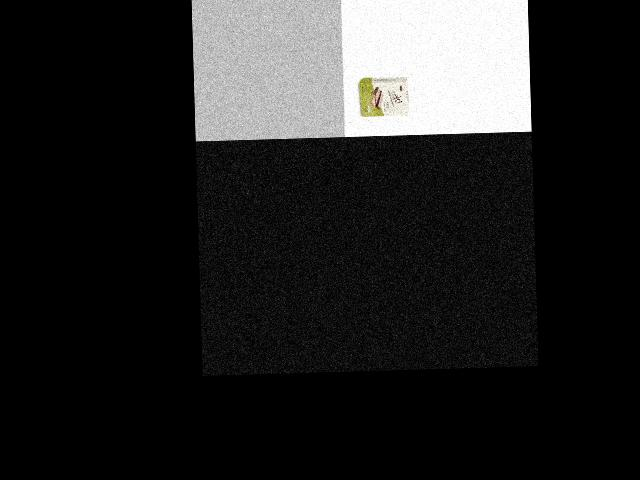chocolate: (355, 73, 410, 121)
